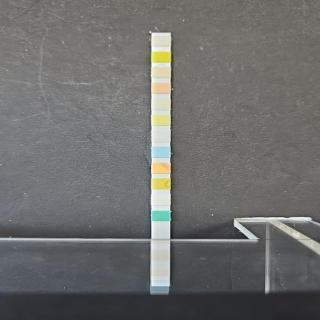mark: (152, 160, 170, 174), (152, 129, 170, 143), (152, 113, 170, 126), (151, 194, 170, 206), (152, 210, 170, 222), (152, 178, 170, 190), (152, 145, 170, 157), (152, 82, 170, 94), (152, 66, 170, 78), (152, 51, 170, 63), (152, 34, 170, 46), (152, 98, 169, 110)
